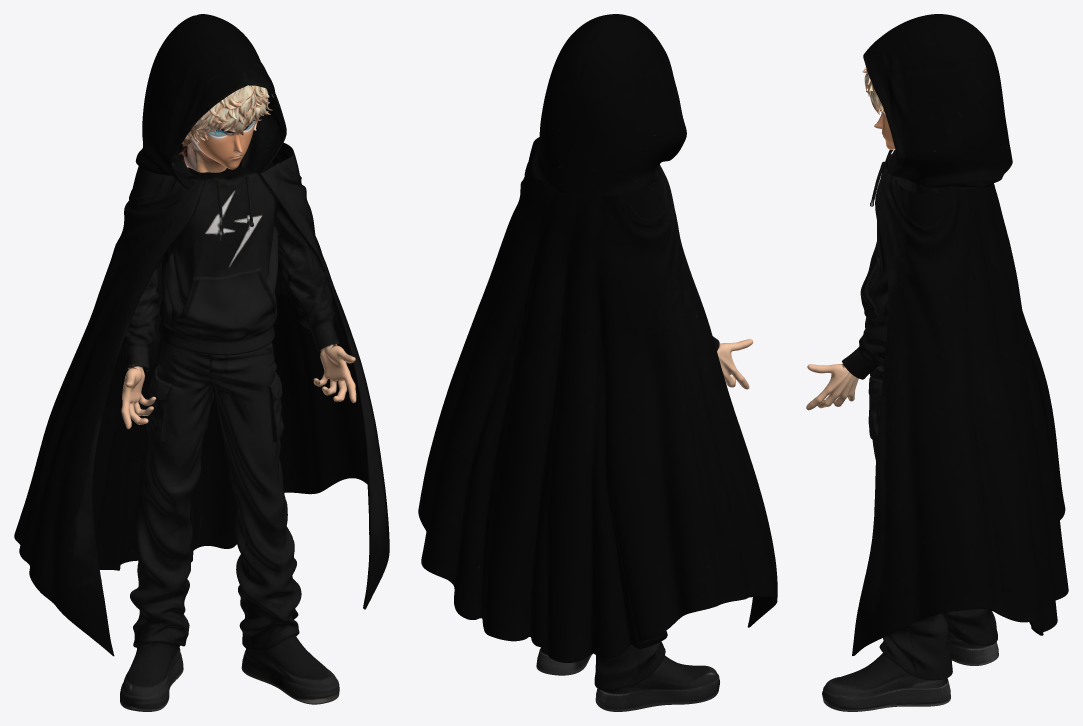
3 views of the same model, side by side, from view 1: azimuth 30°, elevation 25°; view 2: azimuth 150°, elevation 25°; view 3: azimuth 270°, elevation 25° (orthographic).
Parts seen in each view (by area): view 1: CHAR; view 2: CHAR; view 3: CHAR.
Part boxes in pixels (box(x1,y1,x2,y2)): CHAR: box(14, 14, 389, 711); CHAR: box(418, 14, 777, 711); CHAR: box(806, 14, 1068, 711).
Bounding box in the file's own units: 1.04 × 1.92 × 0.6968.
Materials: 2 (2 with a texture image).
